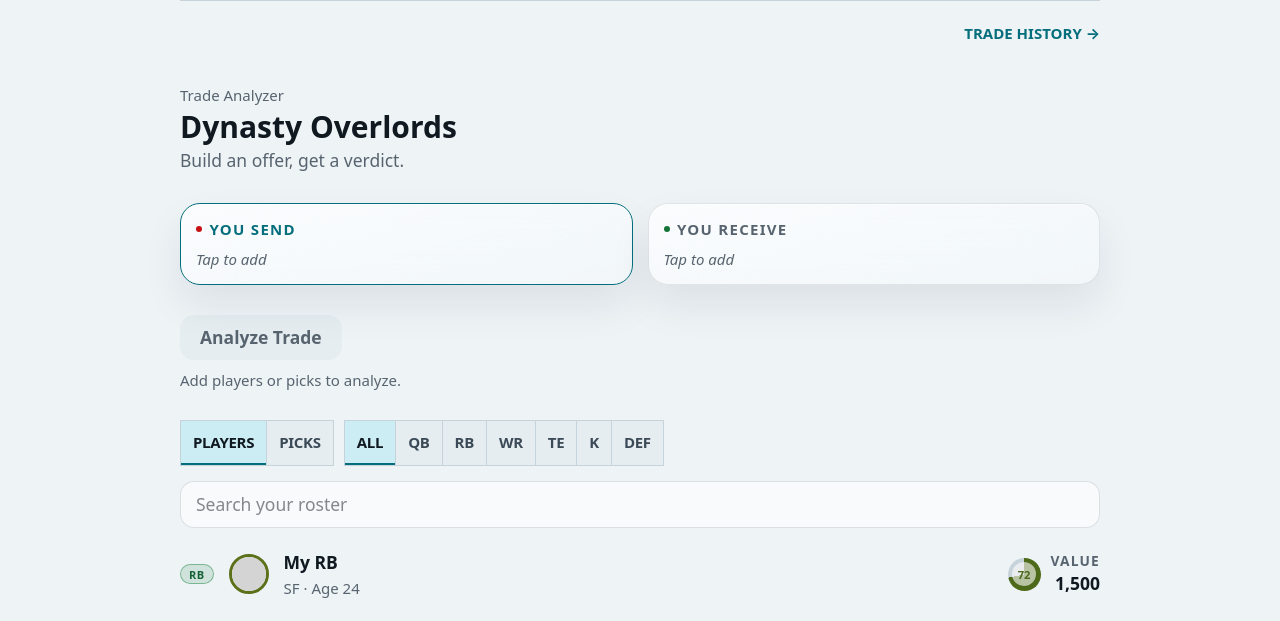
Test: TradeAnalyzerContent › shows what the verdict assumed and offers Report a bad verdict with the analyzed trade
The width and height of the screenshot is (1280, 621).
Click the text "My RB": point(311, 562) top-left (284, 550), bottom-right (338, 574)
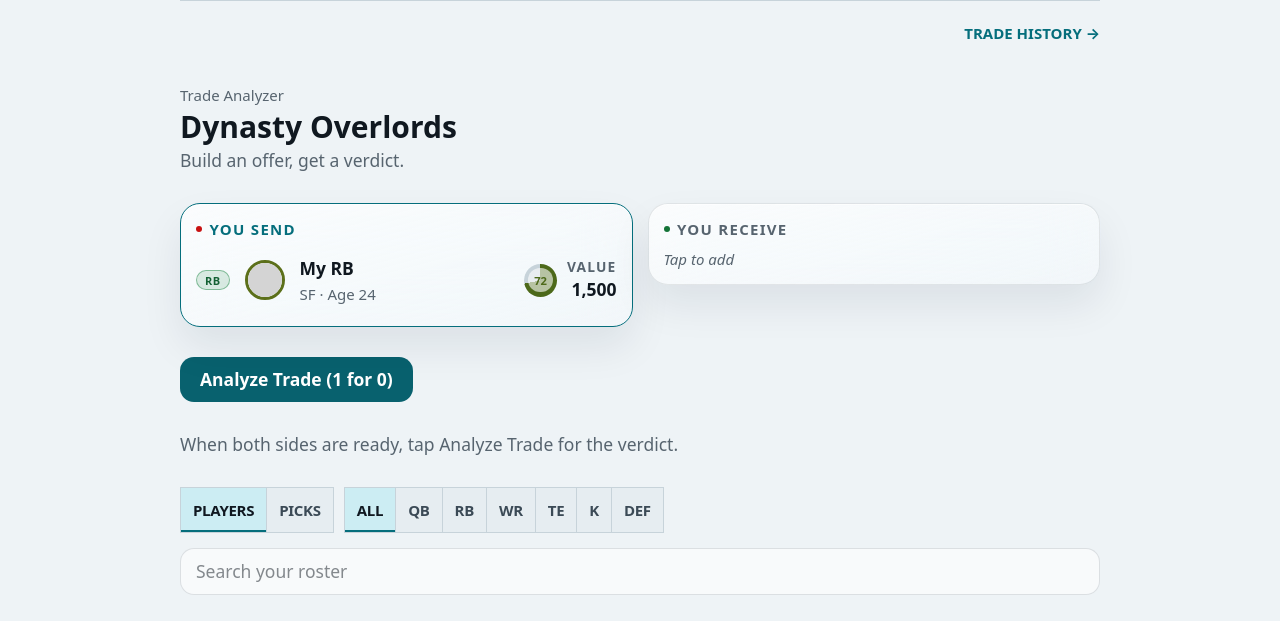
Click the button "You receive": point(726, 229) top-left (664, 219), bottom-right (788, 239)
(page scrolled)
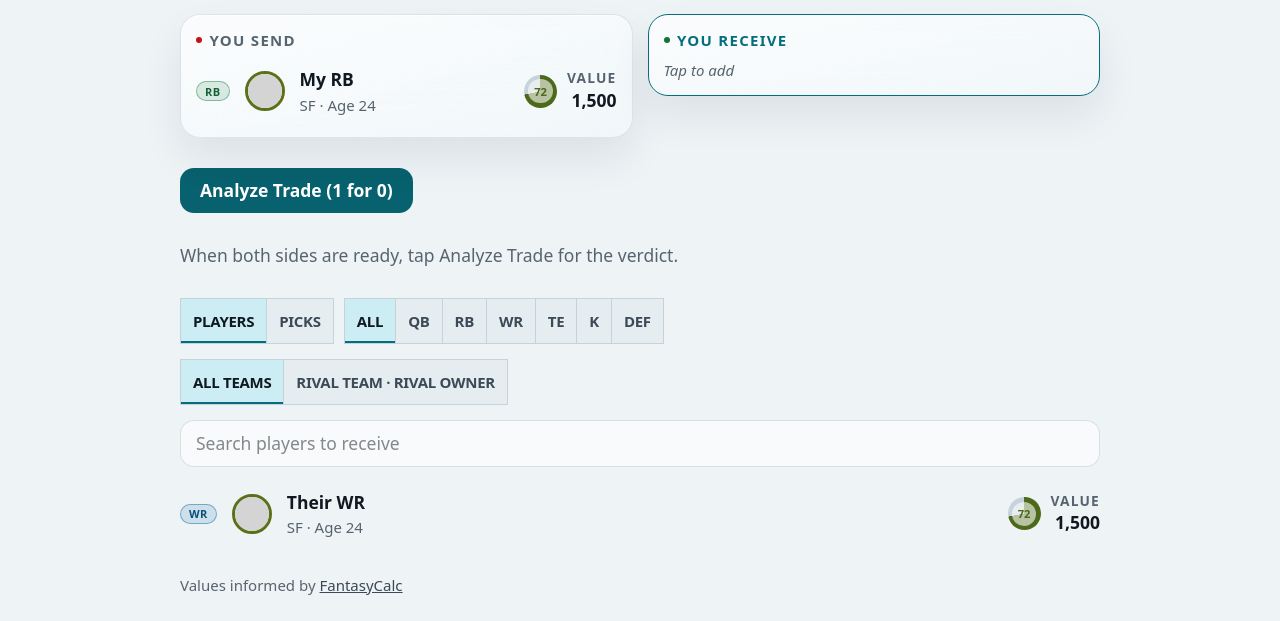
Click the text "Their WR": point(326, 502) top-left (287, 490), bottom-right (365, 515)
(page scrolled)
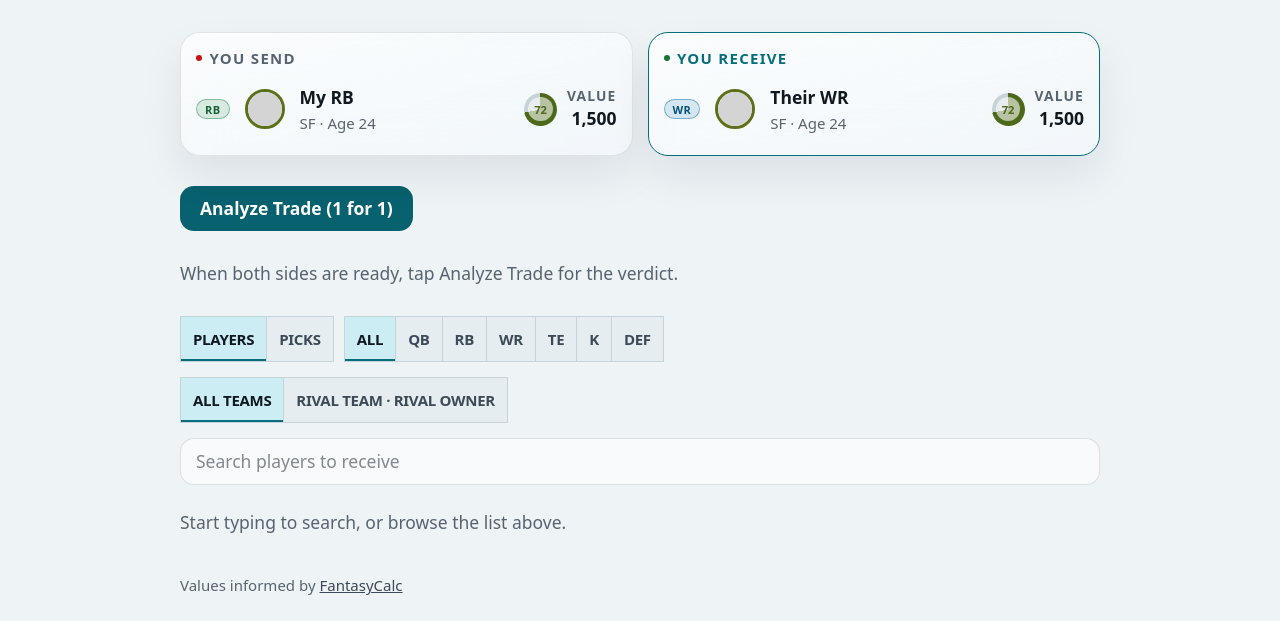
Click the button "Analyze Trade (1 for 1)": point(296, 209) top-left (180, 186), bottom-right (413, 232)
(page scrolled)
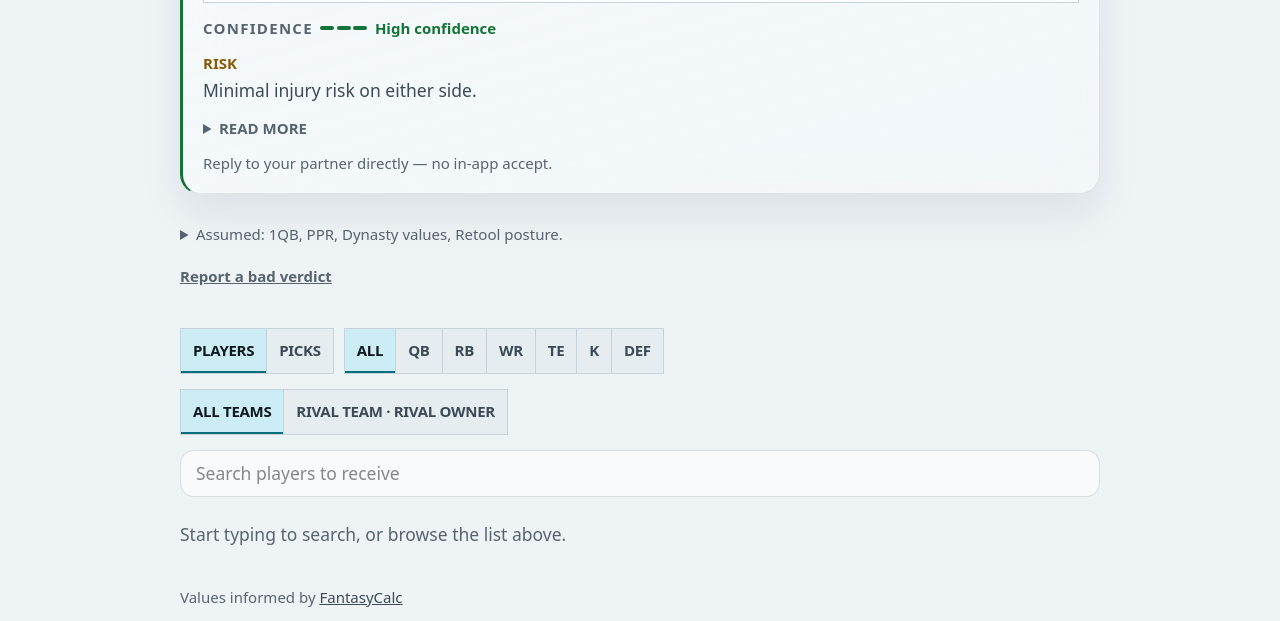
Check: the heading with test id "verdict-assumptions-line" shows "Assumed: 1QB, PPR", box top-left (196, 224), bottom-right (563, 244)
Check: the button "Report a bad verdict" is shown, box top-left (180, 254), bottom-right (332, 298)
